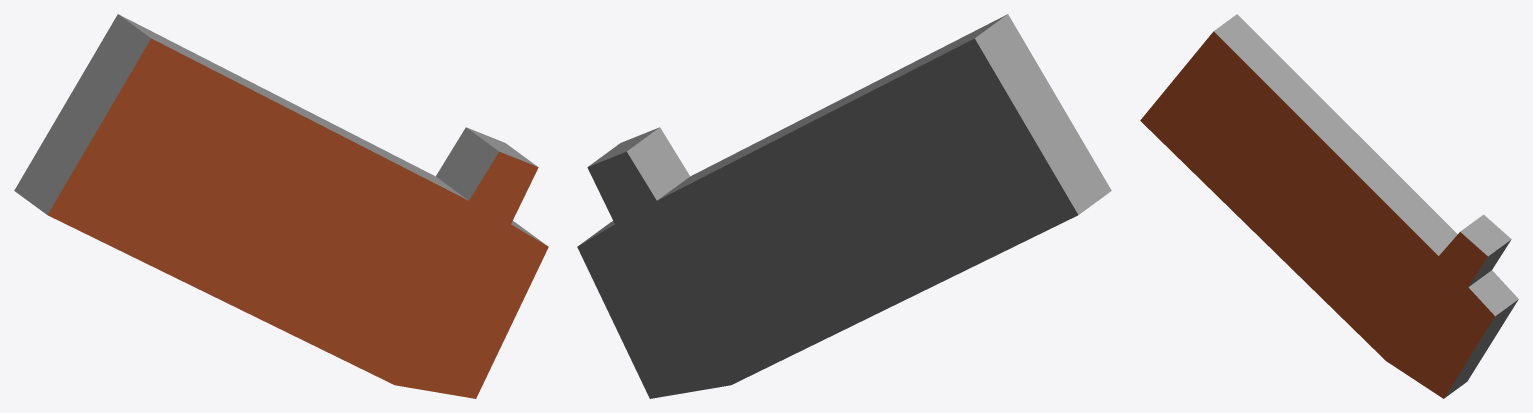
Rendered from construction_3204_assumed_A_Casa_h6m.obj.
3 views of the same model, side by side, from view 1: azimuth 30°, elevation 25°; view 2: azimuth 150°, elevation 25°; view 3: azimuth 330°, elevation 25° (orthographic). The views are drawn at different scales.
Visible parts, largest first — view 1: construction_3204_assumed_A_Casa; view 2: construction_3204_assumed_A_Casa; view 3: construction_3204_assumed_A_Casa.
Part boxes in pixels (bbox=[...]): construction_3204_assumed_A_Casa: bbox=[14, 14, 548, 398]; construction_3204_assumed_A_Casa: bbox=[577, 14, 1111, 398]; construction_3204_assumed_A_Casa: bbox=[1140, 14, 1518, 398].
Size of the model in its own units: 52.12 by 43.69 by 6.
